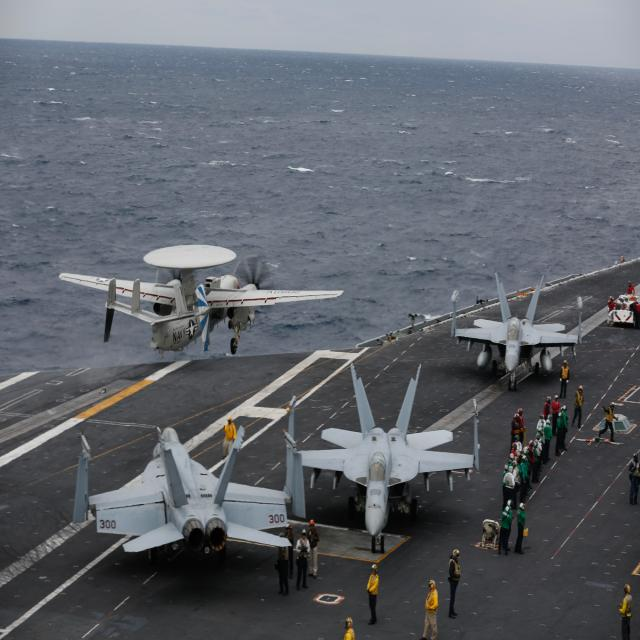MIL_Plane: (285, 363, 482, 554), (58, 244, 344, 358), (72, 426, 306, 563), (450, 272, 583, 391)
